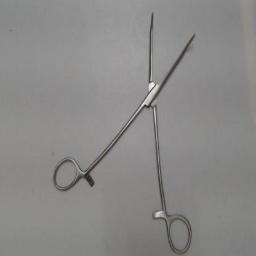Lahey Forceps: (48, 8, 198, 256)
